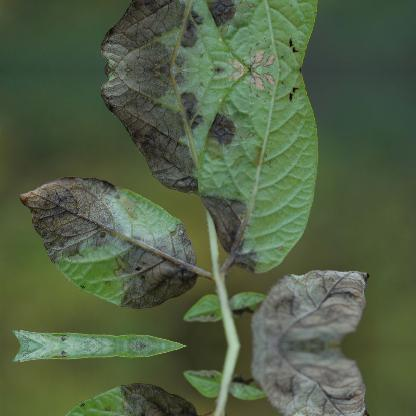Late-Blight: (42, 74, 406, 278), (10, 156, 206, 344), (42, 0, 406, 63), (9, 346, 206, 416)
